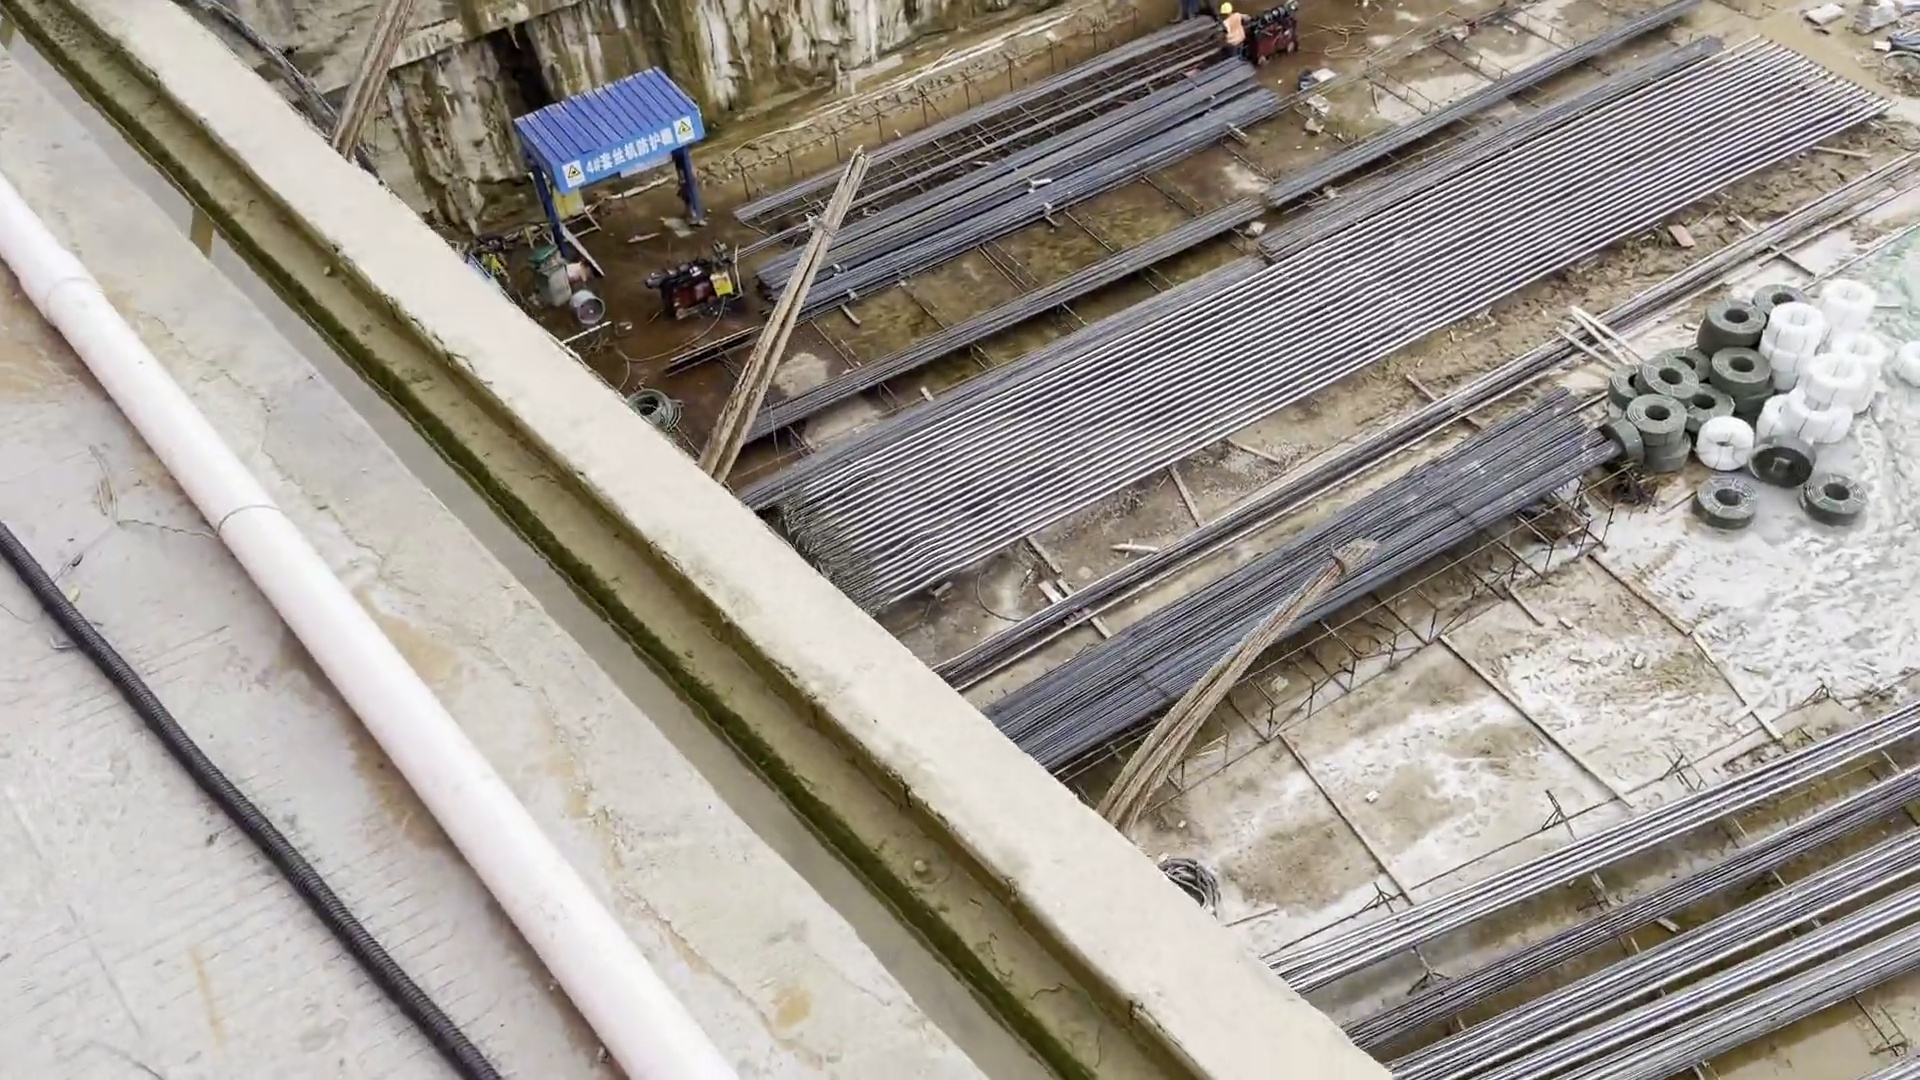helmet: (1220, 5, 1232, 13)
person: (1218, 3, 1255, 60)
rebar: (1255, 693, 1916, 1080), (984, 383, 1624, 755), (732, 13, 1281, 312)
slogan: (564, 111, 699, 195)
vest: (1221, 15, 1244, 44)
